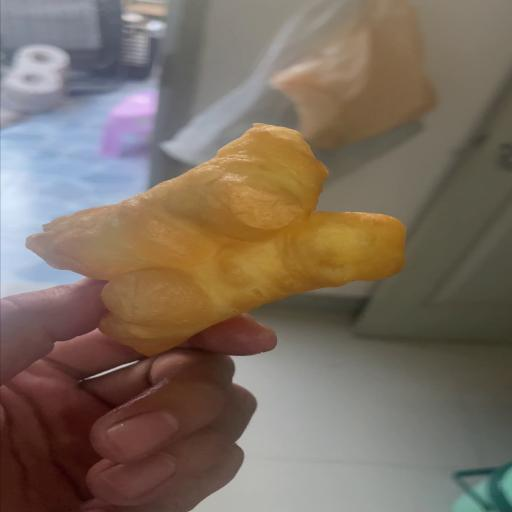street_golden_good: (28, 122, 404, 355)
